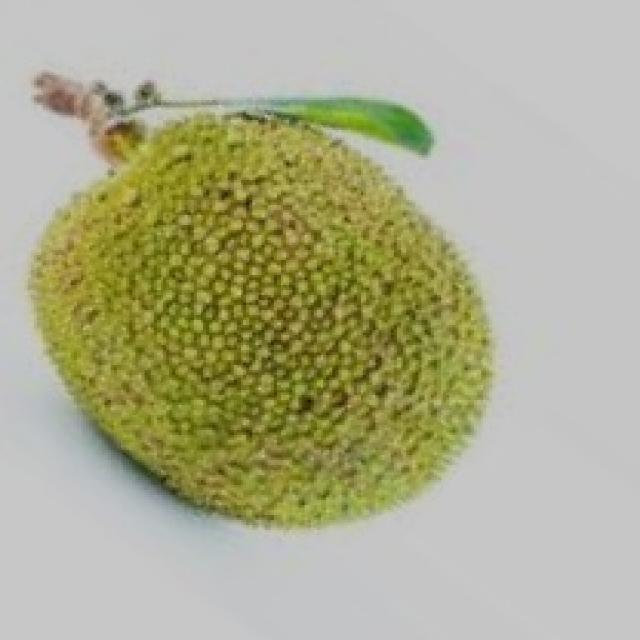Fruit: (163, 105, 532, 543)
